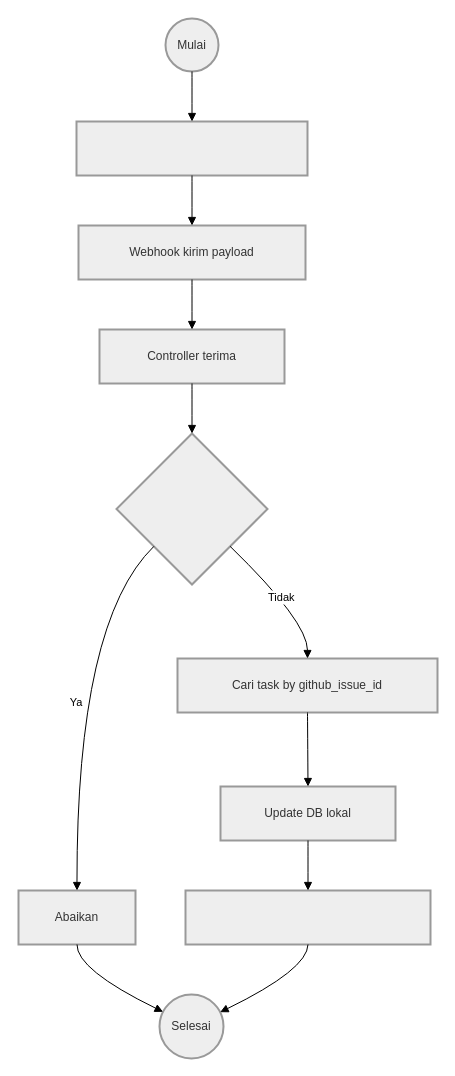
The diagram is 455 pixels wide and 1076 high, and some of its shapes have lost their labels. Here are the shapes that lost their labels. From the top down, the box of each, then its label:
(75, 120, 308, 176): Issue berubah di GitHub
(115, 432, 268, 585): Sender = Bot?
(184, 889, 431, 945): Livewire refresh tampilan
